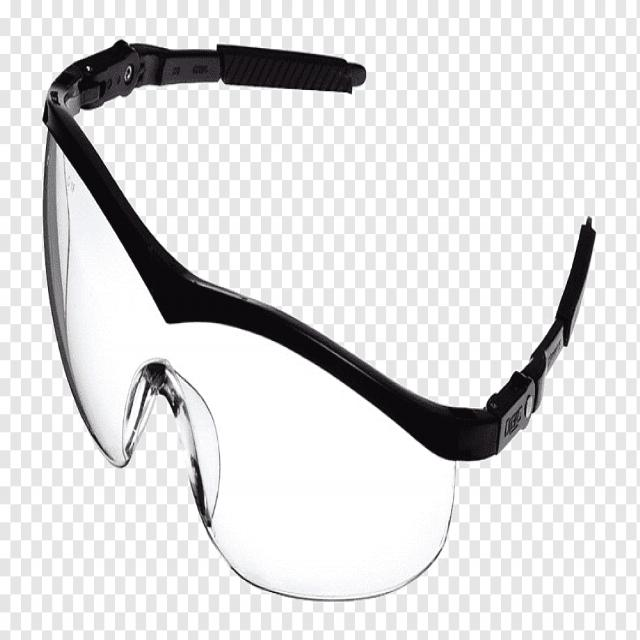Protective Glasses: (11, 3, 626, 617)
